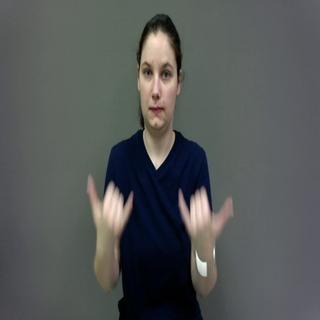now: (74, 171, 240, 245)
